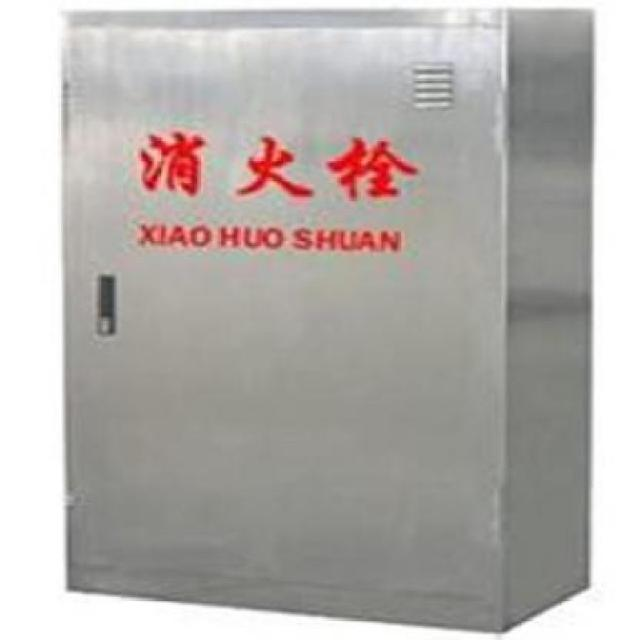firehydrant: (53, 0, 602, 640)
